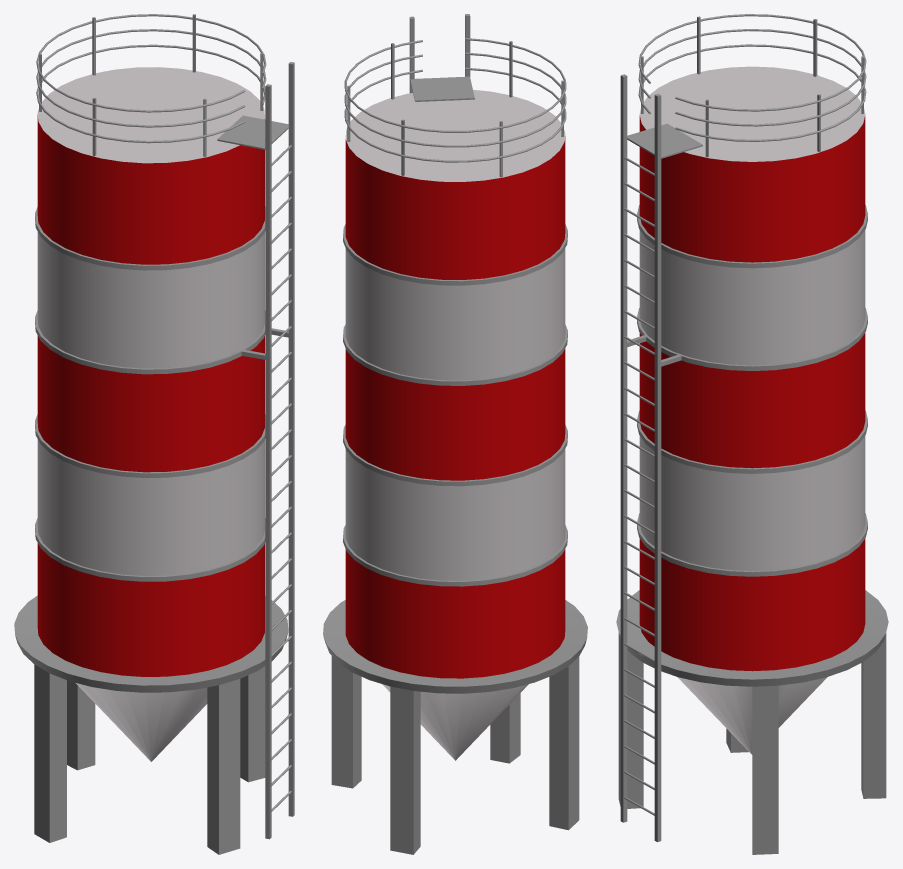
The model's file is silo.glb.
3 views of the same model, side by side, from view 1: azimuth 30°, elevation 25°; view 2: azimuth 150°, elevation 25°; view 3: azimuth 270°, elevation 25° (orthographic). The views are drawn at different scales.
Parts seen in each view (by area): view 1: Silo; view 2: Silo; view 3: Silo.
Part boxes in pixels (left/top/right/bottom): Silo: left=14, top=14, right=294, bottom=854; Silo: left=323, top=14, right=587, bottom=854; Silo: left=616, top=14, right=888, bottom=854.
Bounding box in the file's own units: 1.7 × 5.16 × 1.7.
